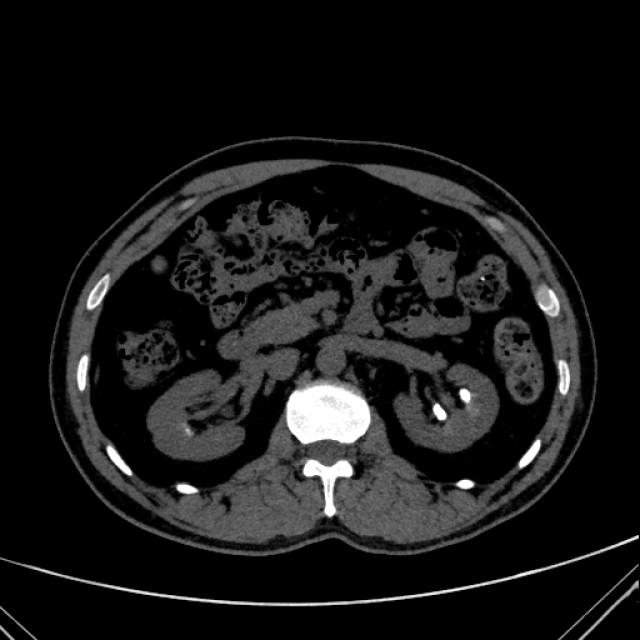kidneystone: (432, 402, 448, 421), (459, 388, 472, 404)
